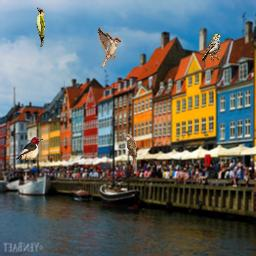Cuckoo: (124, 134, 137, 174)
Sparrow: (98, 27, 121, 67), (201, 33, 221, 63)
Woodpecker: (16, 137, 43, 160), (35, 7, 45, 47)
